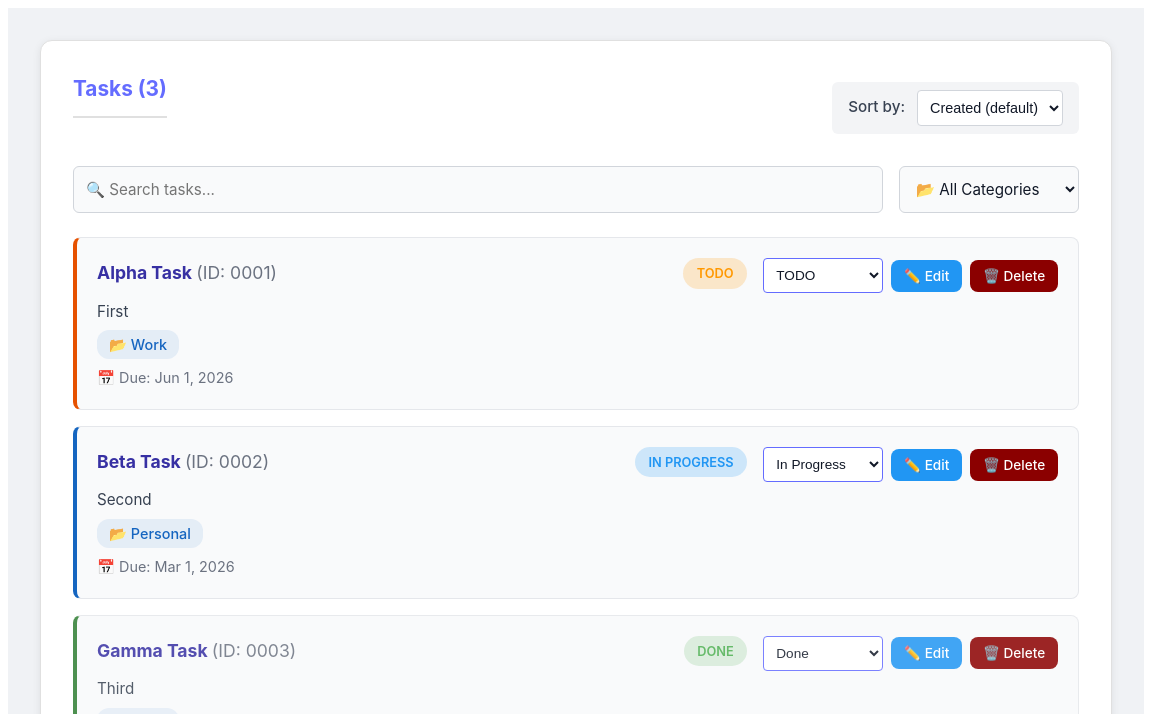
TaskList – search › filters tasks by description search term
Type "Second" into the field with placeholder "🔍 Search tasks...". click: x=478, y=190
box: top-left (73, 166), bottom-right (883, 213)
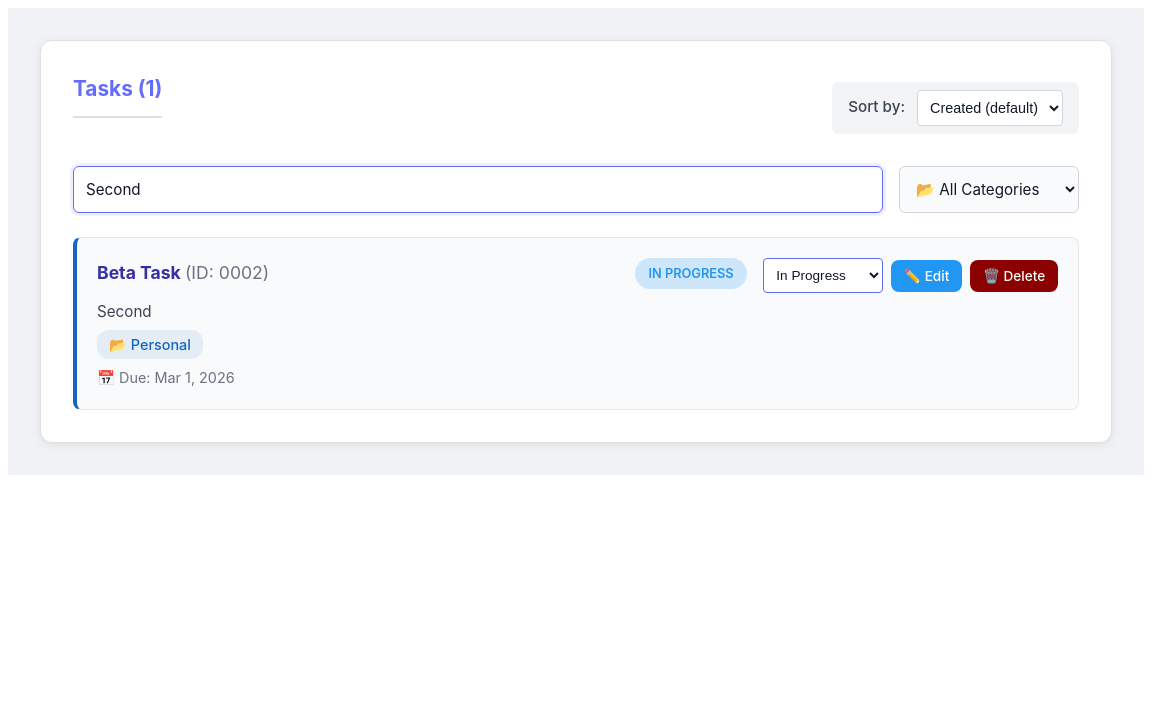
Expected: the heading "Beta Task (ID: 0002)" is shown, top-left (97, 262), bottom-right (269, 283)
Result: the heading "Alpha Task" is gone
